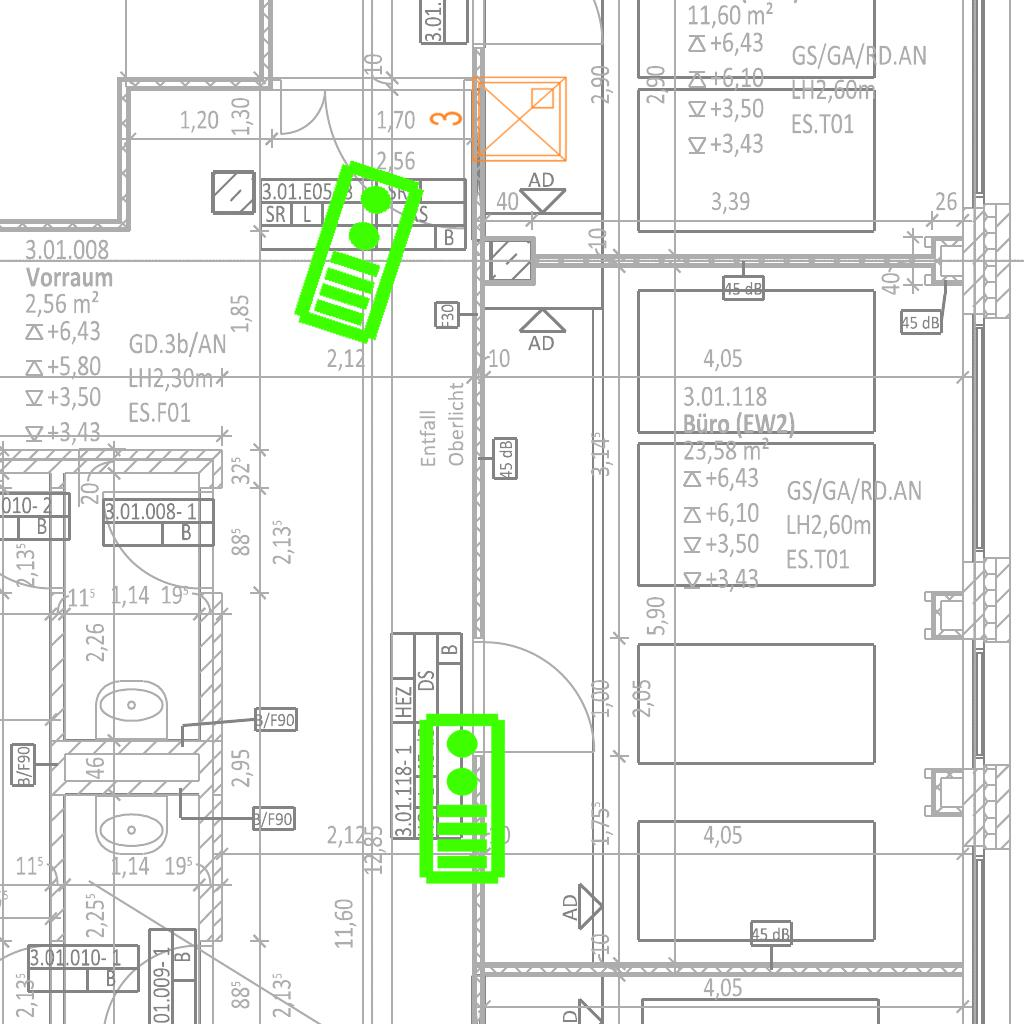Einbaudownlights_LED_Konferenzraeume: (424, 69, 574, 173)
Gegensprechanlage_mit_Video: (285, 152, 430, 350), (413, 710, 508, 886)
